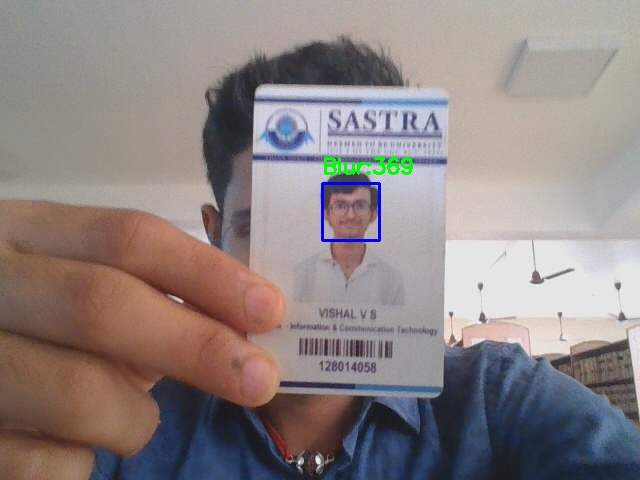fake: (322, 183, 379, 240)
